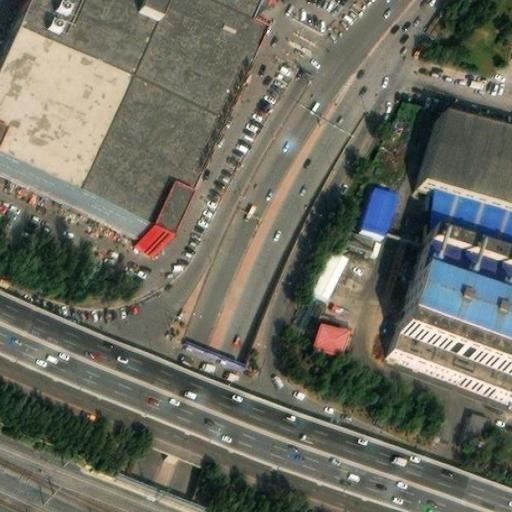building: (398, 241, 512, 359), (432, 100, 512, 198), (395, 326, 512, 381), (430, 177, 512, 238), (429, 215, 512, 256), (362, 182, 397, 231), (312, 244, 345, 292), (336, 223, 377, 258), (315, 314, 352, 347), (457, 406, 489, 443)
